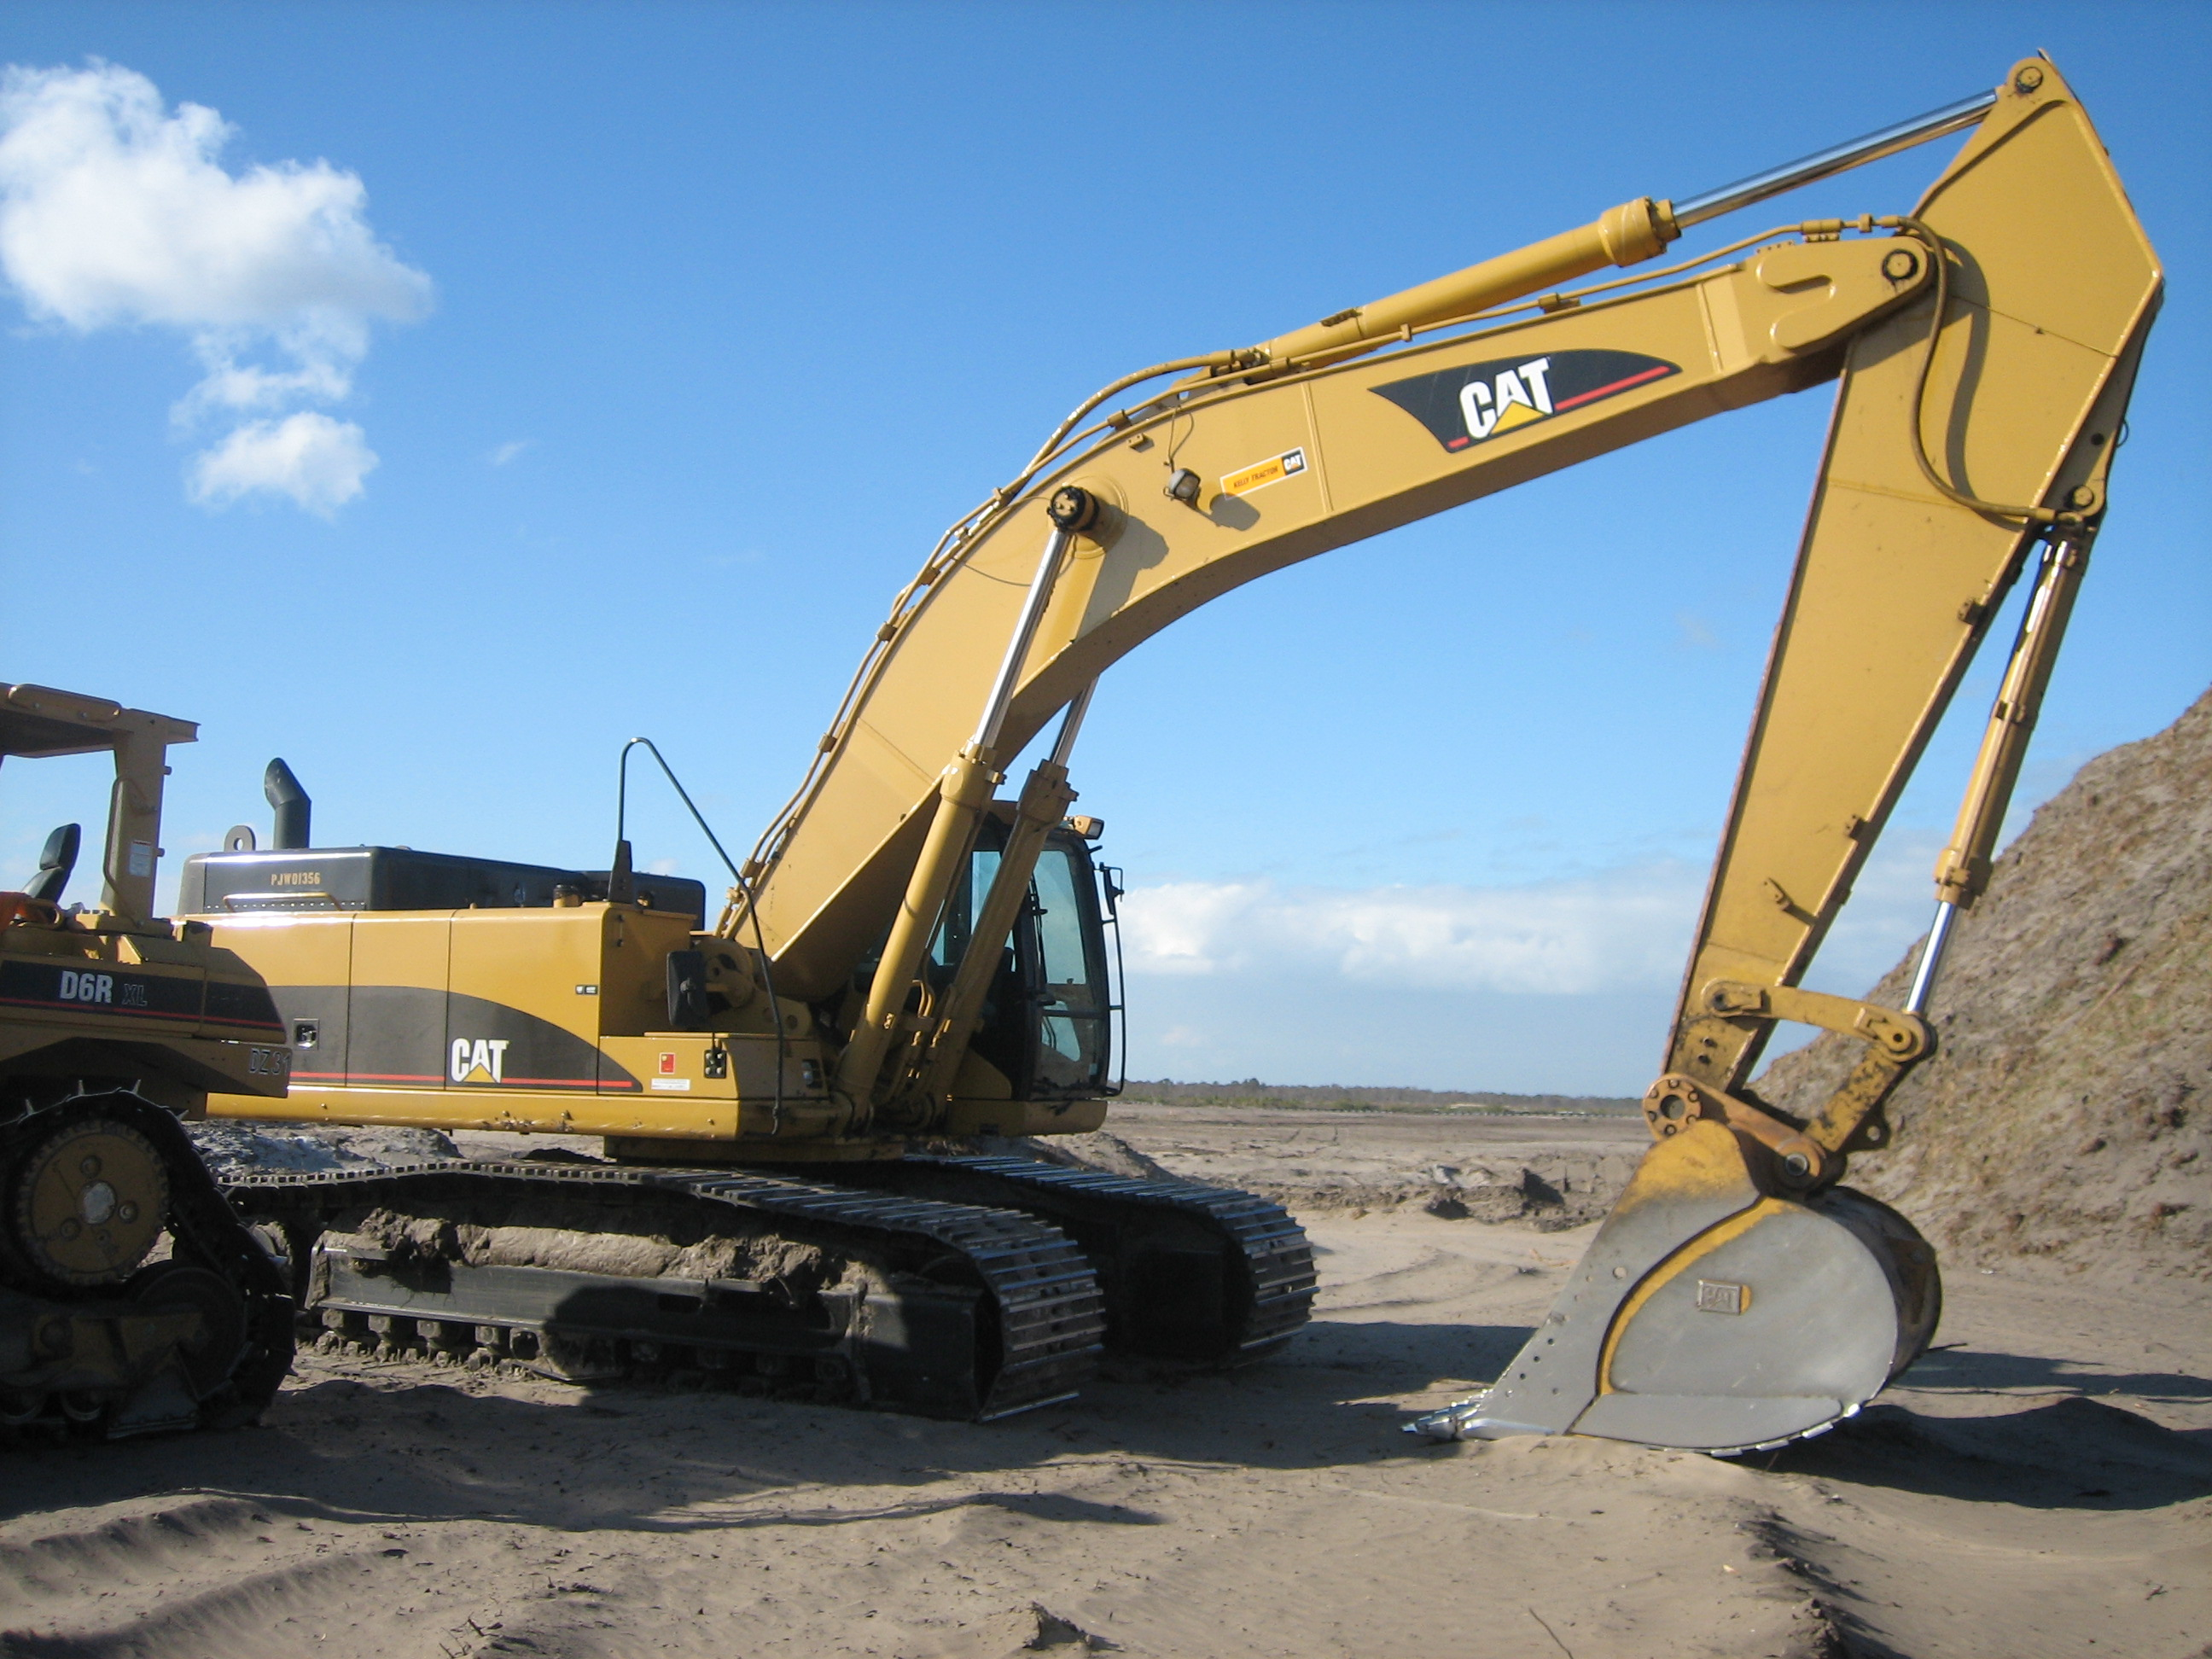excavator: (178, 52, 2160, 1462)
